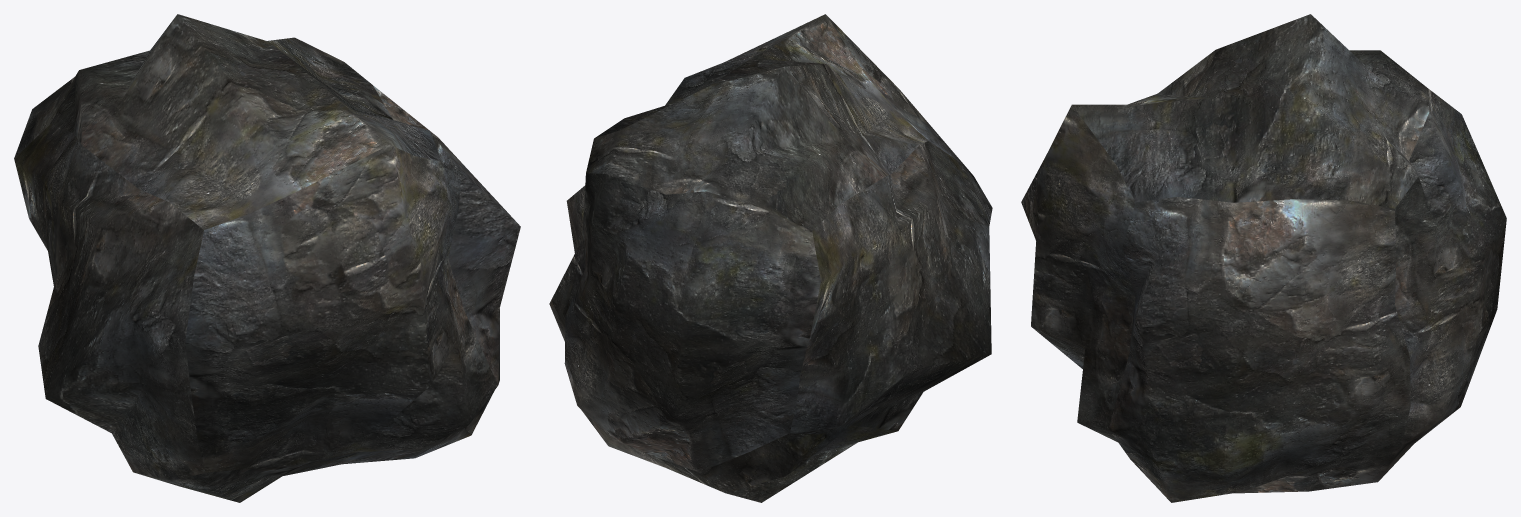
File: Asteroid03.FBX
3 views of the same model, side by side, from view 1: azimuth 30°, elevation 25°; view 2: azimuth 150°, elevation 25°; view 3: azimuth 270°, elevation 25° (orthographic). The views are drawn at different scales.
Visible parts, largest first — view 1: Asteroid03; view 2: Asteroid03; view 3: Asteroid03.
Part boxes in pixels (box(x1,y1,x2,y2)): Asteroid03: box(14, 14, 520, 502); Asteroid03: box(549, 14, 992, 502); Asteroid03: box(1021, 14, 1506, 502).
Size of the model in its own units: 95.98 by 102 by 101.
